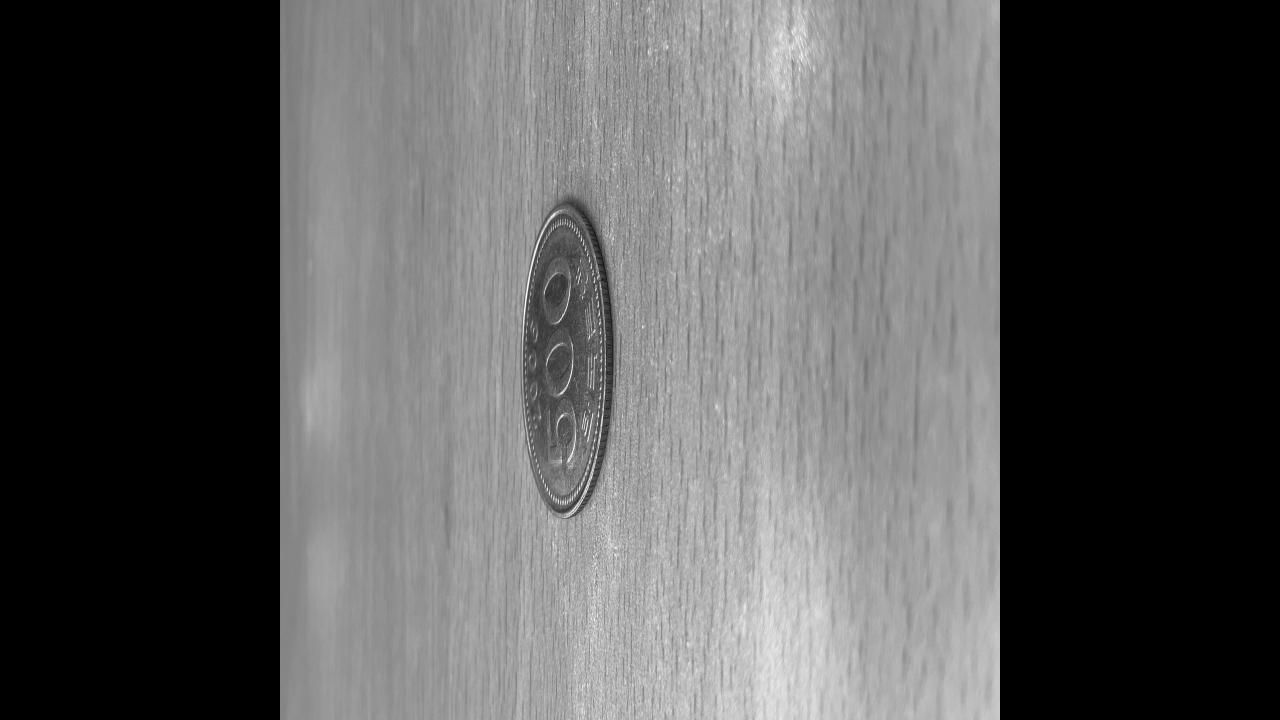coin: (520, 201, 612, 521)
